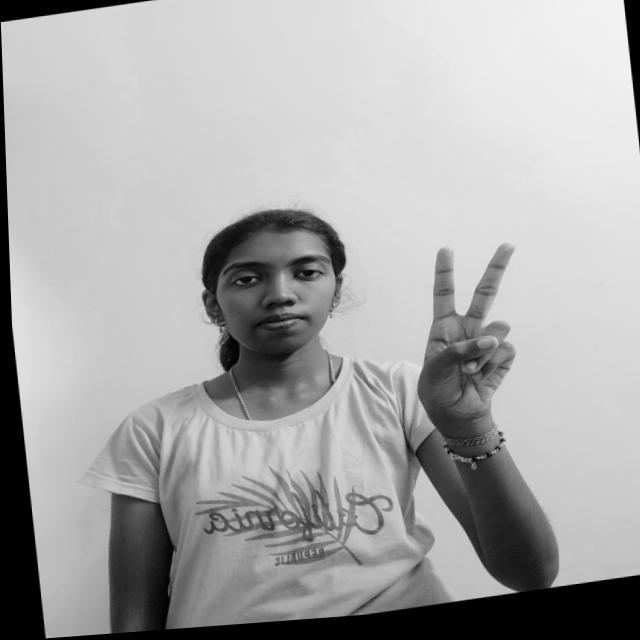Victory: (393, 232, 540, 445)
